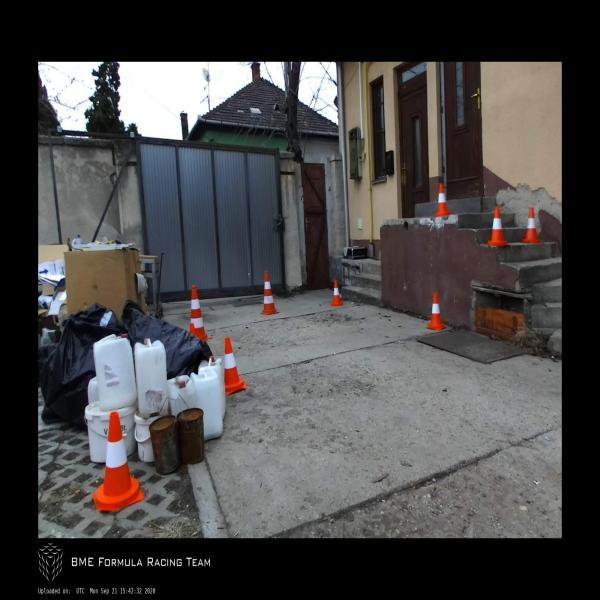large_orange_cone: (190, 285, 212, 341), (260, 271, 279, 315)
orange_cone: (93, 413, 144, 512), (224, 338, 248, 396), (485, 205, 508, 245), (426, 292, 446, 332), (522, 208, 541, 244), (435, 184, 451, 217), (330, 280, 343, 307)
